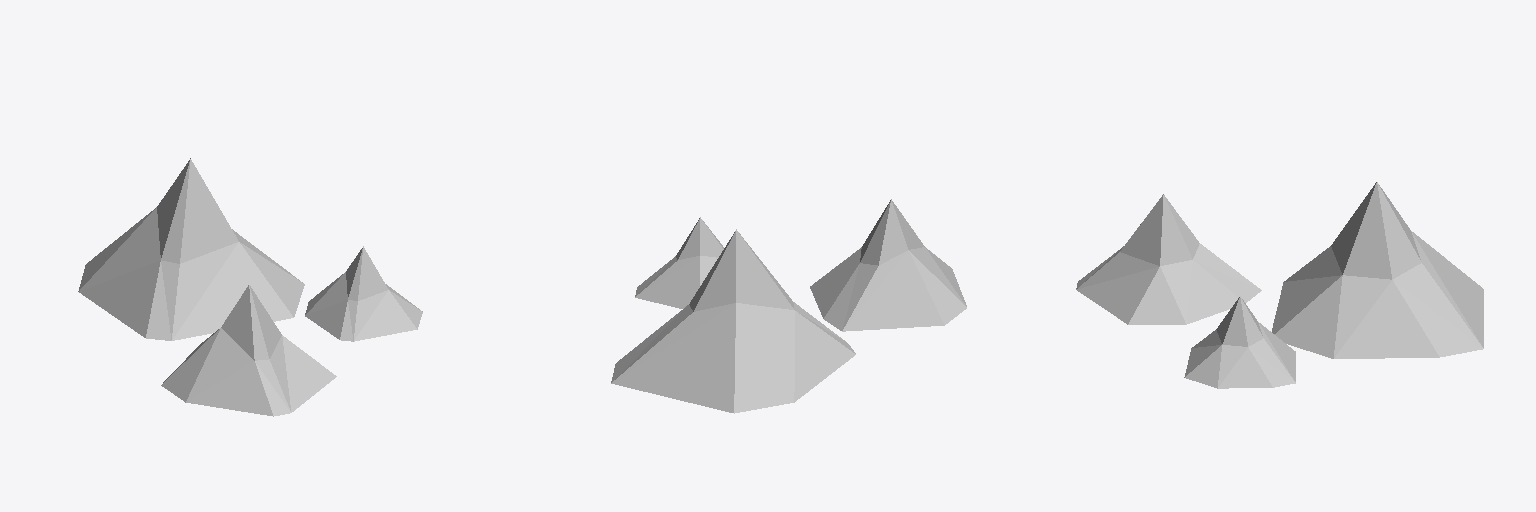
File: mountain.obj
The picture shows the model from 3 angles: view 1: azimuth 30°, elevation 25°; view 2: azimuth 150°, elevation 25°; view 3: azimuth 270°, elevation 25°; orthographic projection.
Parts seen in each view (by area): view 1: mountain_Plane.004; view 2: mountain_Plane.004; view 3: mountain_Plane.004.
Part boxes in pixels (bbox=[...]): mountain_Plane.004: bbox=[78, 158, 422, 416]; mountain_Plane.004: bbox=[611, 199, 966, 413]; mountain_Plane.004: bbox=[1076, 182, 1483, 388].
Bounding box in the file's own units: 45.73 × 21.32 × 59.43.